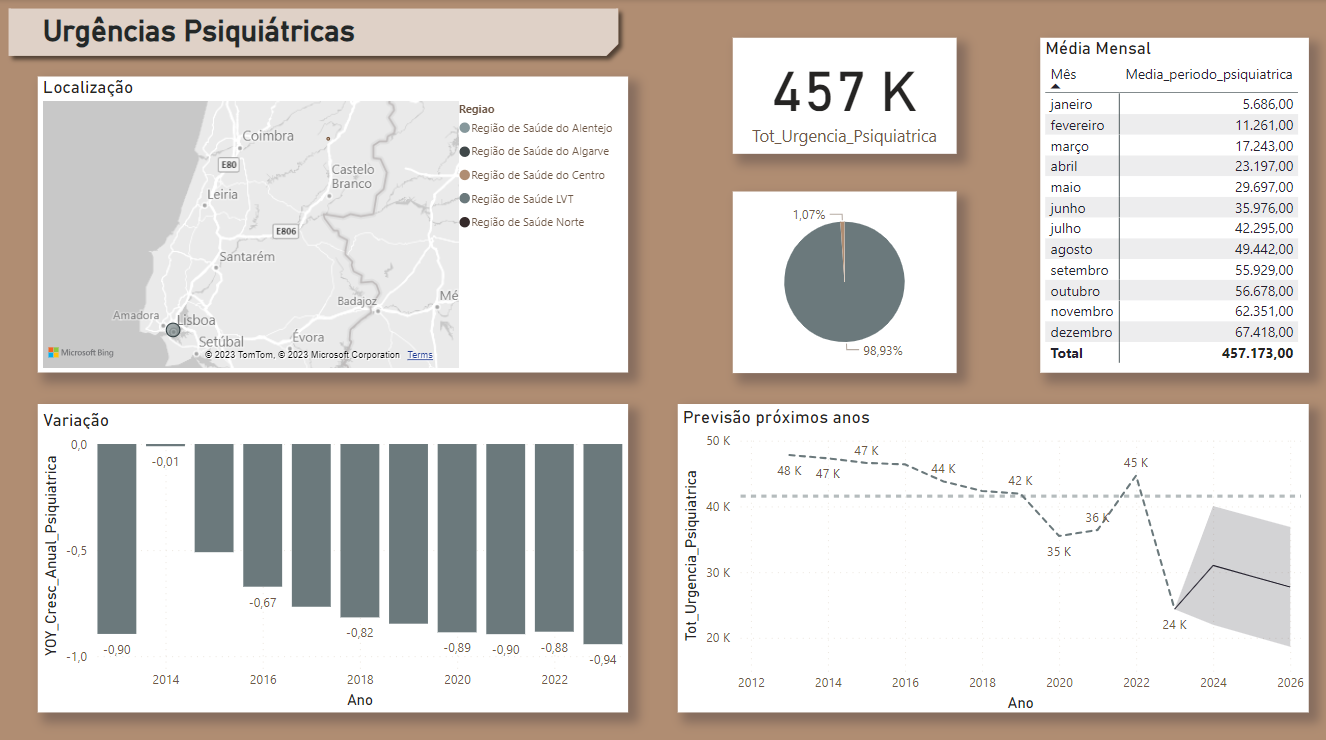

This screenshot's page, from the dashboard's own definition file:
{"tool":"powerbi","page":{"name":"Psiquiátrica","canvas":[1280,720],"ordinal":1},"visuals":[{"type":"map","title":"Localização","fields":{"Category":["atendimentos-por-tipo-de-urgencia-hospitalar-link.Localizacao_Geografica"],"Series":["atendimentos-por-tipo-de-urgencia-hospitalar-link.Regiao"],"Size":["Medidas.Tot_Urgencia_Psiquiatrica"]},"box":[37.4,74.8,569.2,285.8],"z":0},{"type":"lineChart","title":"Previsão próximos anos","fields":{"Category":["Date.Ano"],"Y":["Medidas.Tot_Urgencia_Psiquiatrica"]},"box":[654.9,390.8,609,297.9],"z":1000},{"type":"clusteredColumnChart","title":"Variação","fields":{"Category":["Date.Ano"],"Y":["_Medidas.YOY_Cresc_Anual_Psiquiatrica"]},"box":[37.4,390.8,569.2,297.9],"z":2000},{"type":"pivotTable","title":"Média Mensal","fields":{"Rows":["Calendario.Date.Variação.Hierarquia de Datas.Mês"],"Values":["_Medidas.Media_periodo_psiquiatrica"]},"box":[1004.6,37.4,259.3,323.2],"z":3000},{"type":"card","fields":{"Values":["Medidas.Tot_Urgencia_Psiquiatrica"]},"box":[707.9,37.4,215.9,112.2],"z":4000},{"type":"pieChart","fields":{"Category":["atendimentos-por-tipo-de-urgencia-hospitalar-link.Regiao"],"Y":["Medidas.Tot_Urgencia_Psiquiatrica"]},"box":[707.9,185.7,215.9,174.9],"z":5000},{"type":"shape","box":[0,0,606.6,63.9],"z":6000},{"type":"textbox","box":[37.4,8.4,312.4,49.4],"z":7000}]}

Visuals, with their boxes in screenshot pixels (x1, y1, x2, y2), scaled from the page's 1280x720 canvas onto the 1326x740 screenshot:
"Localização" map: [39,77,628,371]
"Previsão próximos anos" lineChart: [678,402,1309,708]
"Variação" clusteredColumnChart: [39,402,628,708]
"Média Mensal" pivotTable: [1041,38,1309,371]
card - Medidas.Tot_Urgencia_Psiquiatrica: [733,38,957,154]
pieChart - atendimentos-por-tipo-de-urgencia-hospitalar-link.Regiao x Medidas.Tot_Urgencia_Psiquiatrica: [733,191,957,371]
shape: [0,0,628,66]
textbox: [39,9,362,59]
